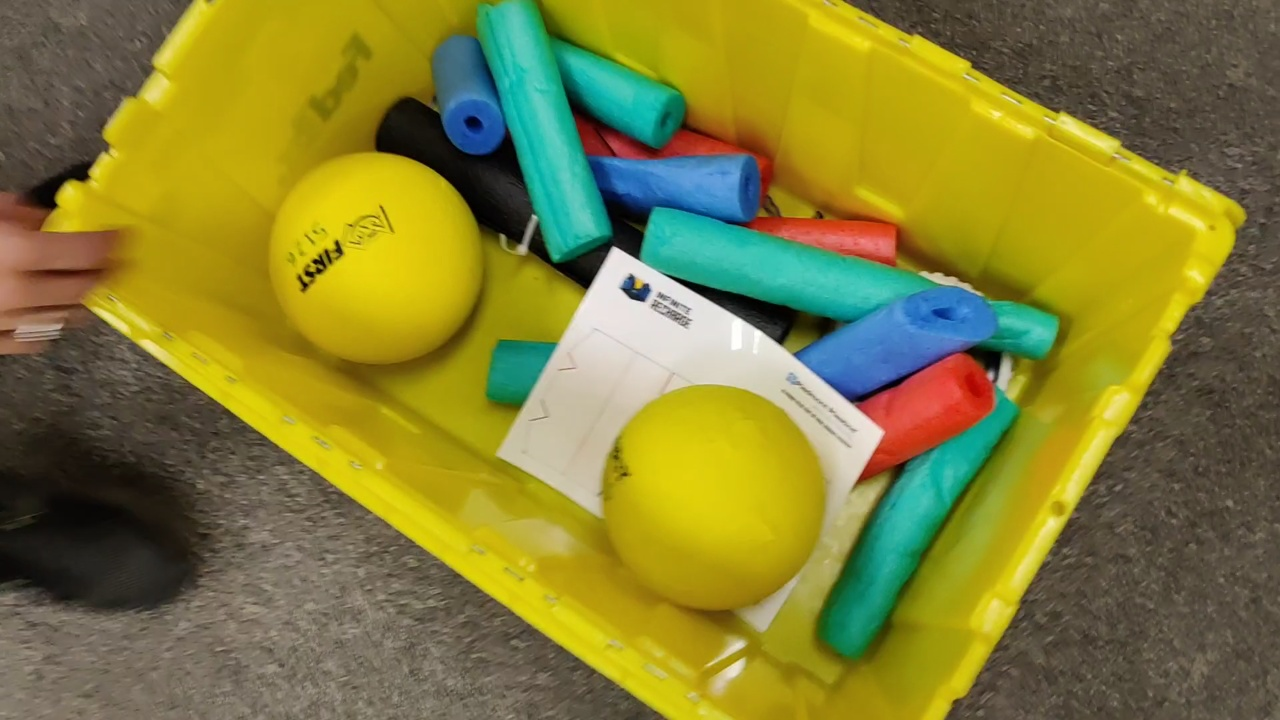Ball: (600, 383, 826, 611), (268, 150, 489, 362)
